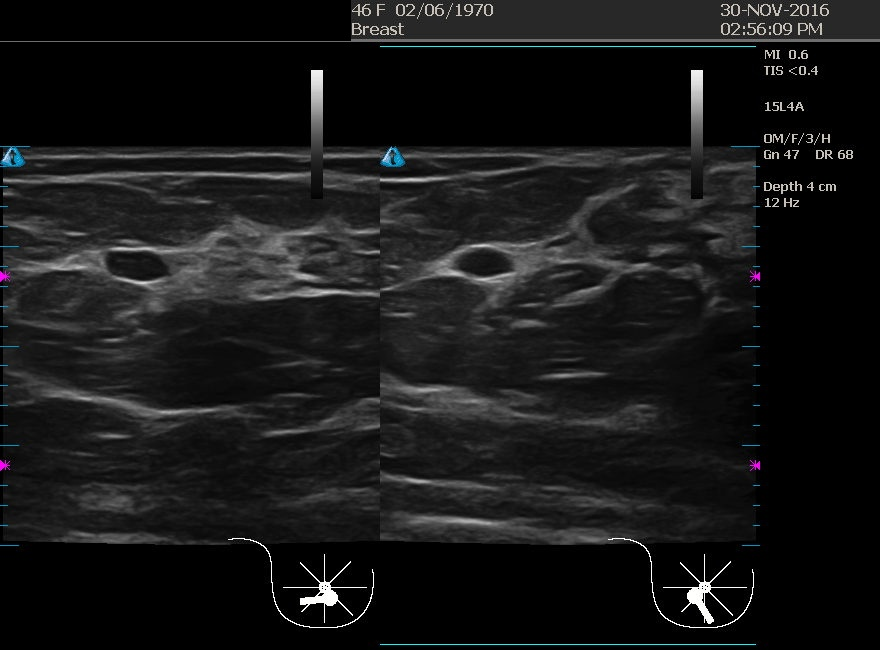BIRADS_2: (29, 151, 229, 351), (385, 214, 585, 414)
